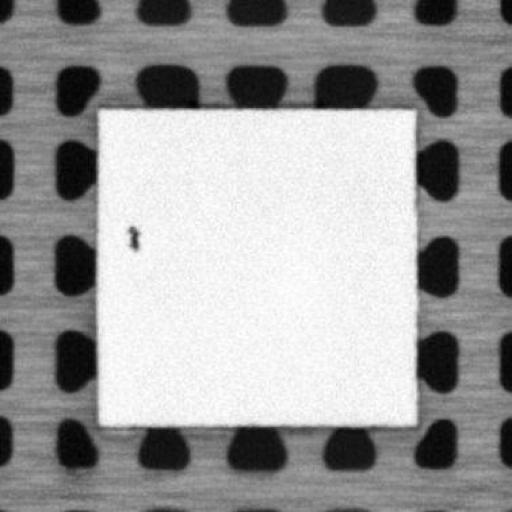DIE_INK: (123, 222, 142, 251)
